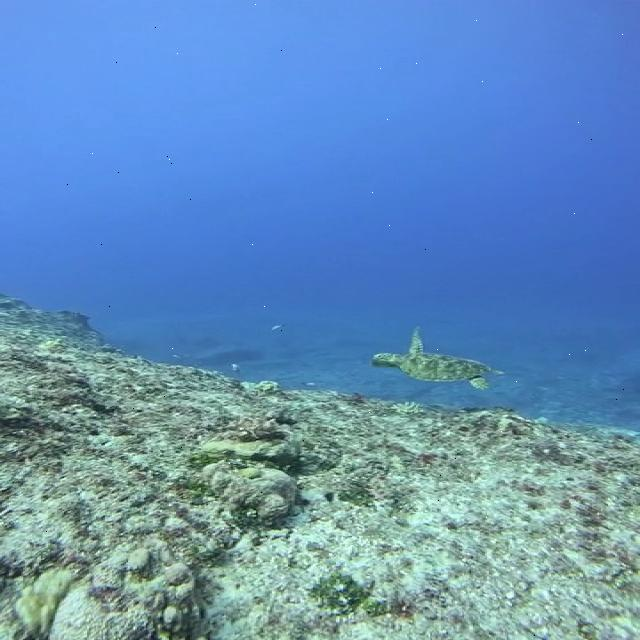turtle: (372, 328, 506, 390)
